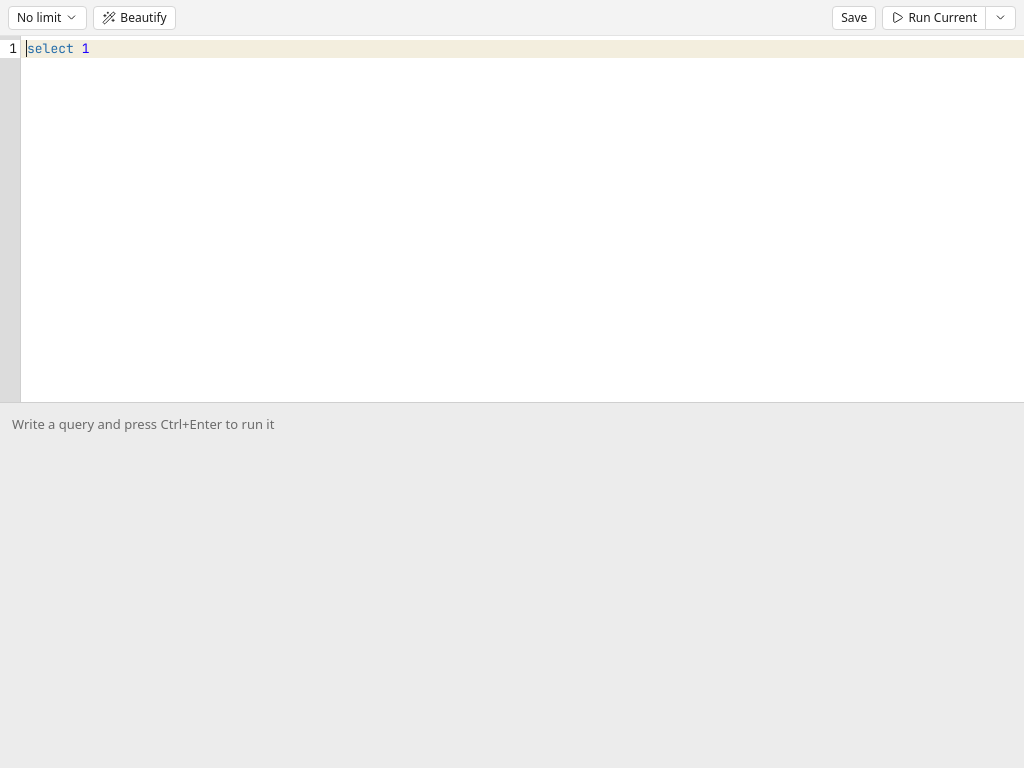
Test: rejected execute shows an index-less error and stops running
What coordinates should you click on to do the following:
click the button named "More run options"
I would click on:
 (1000, 18)
Its box is 985,6 -> 1016,30.
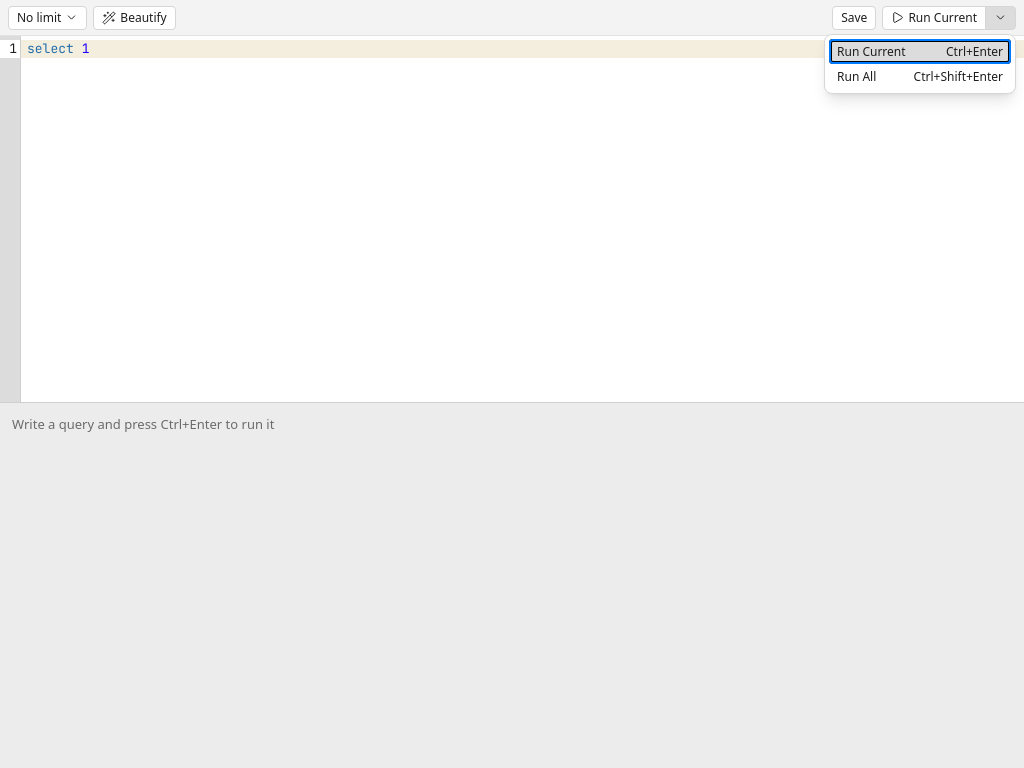
What coordinates should you click on to do the following:
click the menu item "Run All Ctrl+Shift+Enter"
I would click on:
 (920, 76)
Its box is 829,64 -> 1011,89.
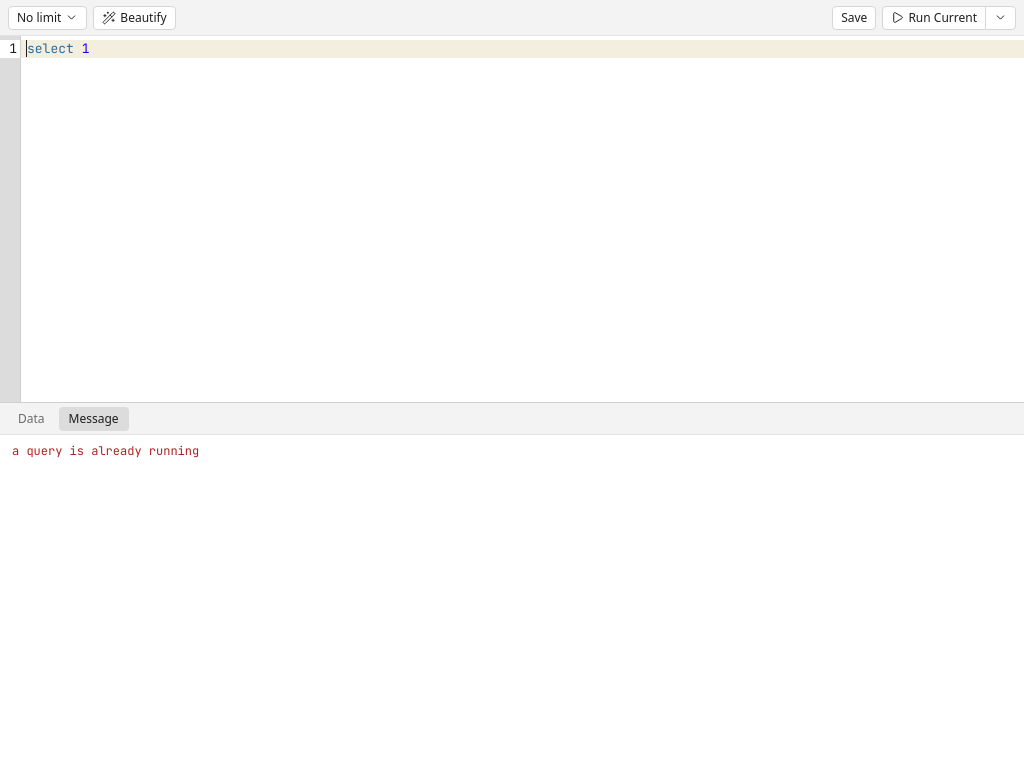
Check: the message reads "a query is already running", box 12,443 -> 199,459
